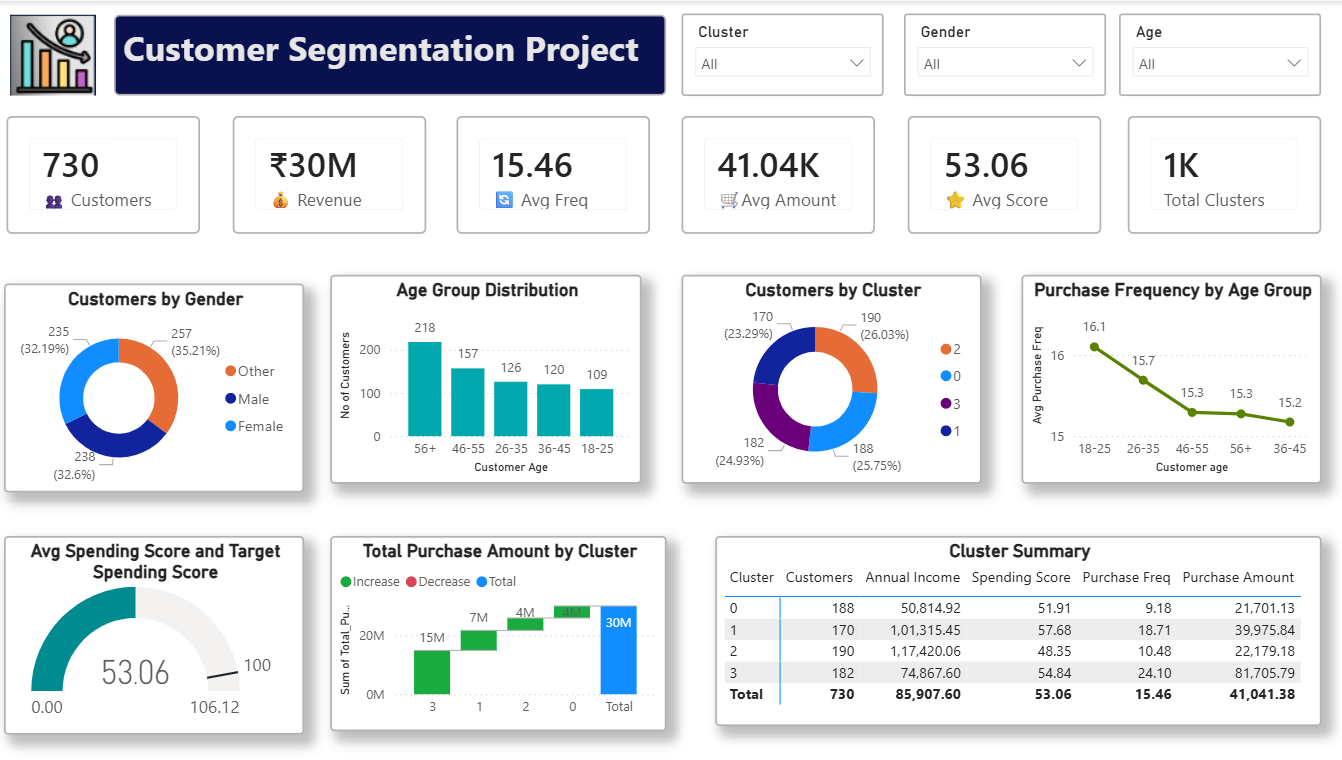

This screenshot's page, from the dashboard's own definition file:
{"tool":"powerbi","page":{"name":"Page 1","canvas":[1280,720],"ordinal":0},"visuals":[{"type":"donutChart","title":"Customers by Gender","fields":{"Category":["customer_segments.Gender"],"Y":["CountNonNull(customer_segments.Customer_ID)"]},"box":[23.3,262.8,279.1,194.2],"z":0},{"type":"clusteredColumnChart","title":"Age Group Distribution","fields":{"Category":["customer_segments.Age Group"],"Y":["CountNonNull(customer_segments.Customer_ID)"]},"box":[326.7,254.7,289.5,194.2],"z":1},{"type":"donutChart","title":"Customers by Cluster","fields":{"Category":["customer_segments.Cluster"],"Y":["CountNonNull(customer_segments.Customer_ID)"]},"box":[653.5,254.7,279.1,194.2],"z":2},{"type":"waterfallChart","title":"Total Purchase Amount by Cluster","fields":{"Category":["customer_segments.Cluster"],"Y":["Sum(customer_segments.Total_Purchase_Amount)"]},"box":[326.7,497.7,312.8,181.4],"z":8},{"type":"lineChart","title":"Purchase Frequency by Age Group","fields":{"Y":["customer_segments.Avg Purchase Frequency"],"Category":["customer_segments.Age Group"]},"box":[969.8,254.7,279.1,194.2],"z":9},{"type":"pivotTable","title":"Cluster Summary","fields":{"Rows":["customer_segments.Cluster"],"Values":["Count(customer_segments.Customer_ID)","customer_segments.Avg Annual Income","customer_segments.Avg Spending Score","customer_segments.Avg Purchase Frequency","customer_segments.Avg Purchase Amount"]},"box":[684.9,497.7,564,176.7],"z":10},{"type":"gauge","fields":{"Y":["customer_segments.Avg Spending Score"],"TargetValue":["customer_segments.Target Spending Score"]},"box":[23.3,497.7,279.1,184.9],"z":11},{"type":"cardVisual","fields":{"Data":["Count(customer_segments.Customer_ID)"]},"box":[25.6,107,180.2,109.3],"z":12},{"type":"cardVisual","fields":{"Data":["customer_segments.Total Revenue"]},"box":[236,107,180.2,109.3],"z":13},{"type":"cardVisual","fields":{"Data":["customer_segments.Avg Purchase Frequency"]},"box":[444.2,107,180.2,109.3],"z":14},{"type":"cardVisual","fields":{"Data":["customer_segments.Avg Spending Score"]},"box":[864,107,180.2,109.3],"z":15},{"type":"cardVisual","fields":{"Data":["Sum(customer_segments.Cluster)"]},"box":[1068.6,107,180.2,109.3],"z":16},{"type":"cardVisual","fields":{"Data":["customer_segments.Avg Purchase Amount"]},"box":[653.5,107,180.2,109.3],"z":17},{"type":"slicer","fields":{"Values":["customer_segments.Cluster"]},"box":[653.5,11.6,188.4,76.7],"z":18},{"type":"slicer","fields":{"Values":["customer_segments.Gender"]},"box":[860.5,11.6,188.4,76.7],"z":19},{"type":"slicer","fields":{"Values":["customer_segments.Age"]},"box":[1060.5,11.6,188.4,76.7],"z":20},{"type":"image","box":[23.3,12.8,91.9,75.6],"z":21},{"type":"textbox","box":[125.6,12.8,514,75.6],"z":22}]}

Visuals, with their boxes in screenshot pixels (x1, y1, x2, y2), scaled from the page's 1280x720 canvas onto the 1342x760 screenshot:
"Customers by Gender" donutChart: (24,277,317,482)
"Age Group Distribution" clusteredColumnChart: (343,269,646,474)
"Customers by Cluster" donutChart: (685,269,978,474)
"Total Purchase Amount by Cluster" waterfallChart: (343,525,670,717)
"Purchase Frequency by Age Group" lineChart: (1017,269,1309,474)
"Cluster Summary" pivotTable: (718,525,1309,712)
gauge - customer_segments.Avg Spending Score x customer_segments.Target Spending Score: (24,525,317,721)
cardVisual - Count(customer_segments.Customer_ID): (27,113,216,228)
cardVisual - customer_segments.Total Revenue: (247,113,436,228)
cardVisual - customer_segments.Avg Purchase Frequency: (466,113,655,228)
cardVisual - customer_segments.Avg Spending Score: (906,113,1095,228)
cardVisual - Sum(customer_segments.Cluster): (1120,113,1309,228)
cardVisual - customer_segments.Avg Purchase Amount: (685,113,874,228)
slicer - customer_segments.Cluster: (685,12,883,93)
slicer - customer_segments.Gender: (902,12,1100,93)
slicer - customer_segments.Age: (1112,12,1309,93)
image: (24,14,121,93)
textbox: (132,14,671,93)
